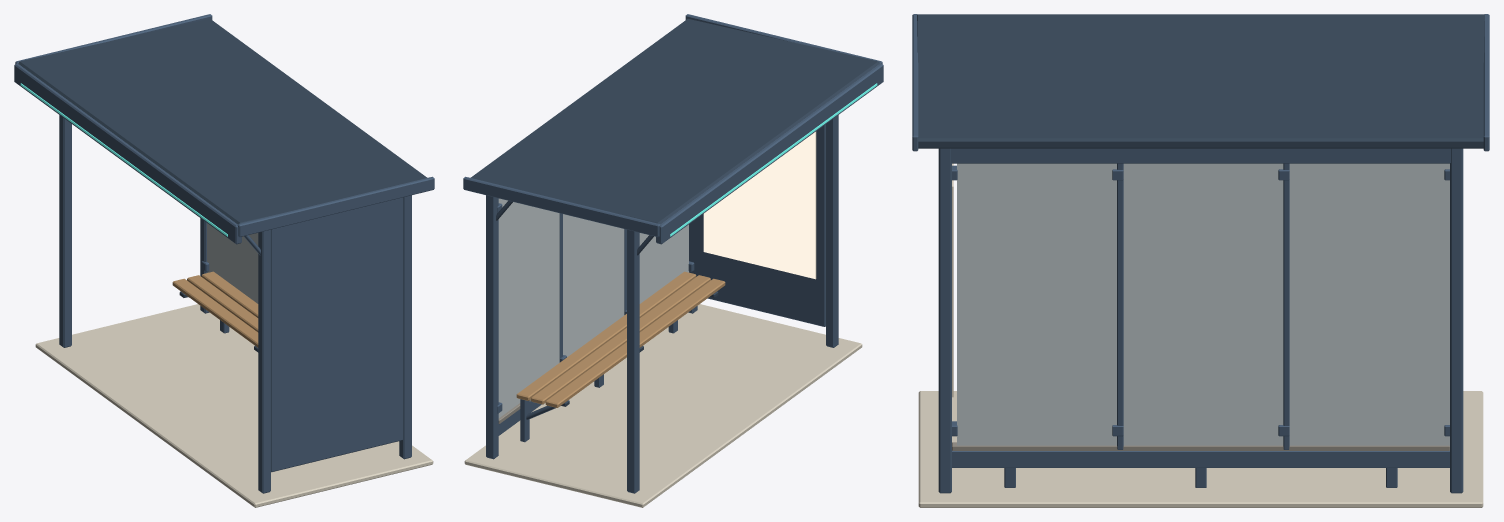
File: shelter.glb
3 renders of one model, left to right at view 1: azimuth 30°, elevation 25°; view 2: azimuth 150°, elevation 25°; view 3: azimuth 270°, elevation 25°, orthographic. The views are drawn at different scales.
Parts seen in each view (by area): view 1: shelter.native.L0.shelter.roof.folded-pan.9, shelter.native.L0.shelter.end.6, shelter.native.L0.shelter.slab.0, shelter.native.L0.shelter.post.3, shelter.native.L0.shelter.post.1, shelter.native.L0.shelter.rear.5, shelter.native.L0.shelter.post.4, shelter.native.L0.shelter.perch.slat-0.14, shelter.native.L0.shelter.perch.slat-1.15, shelter.native.L0.shelter.perch.slat-2.16; view 2: shelter.native.L0.shelter.roof.folded-pan.9, shelter.native.L0.shelter.slab.0, shelter.native.L0.shelter.rear.5, shelter.native.L0.shelter.poster.7, shelter.native.L0.shelter.end.6, shelter.native.L0.shelter.post.1, shelter.native.L0.shelter.post.2, shelter.native.L0.shelter.post.3, shelter.native.L0.shelter.perch.slat-0.14, shelter.native.L0.shelter.perch.slat-2.16, shelter.native.L0.shelter.perch.slat-1.15, shelter.native.L0.shelter.perch.bracket--1.15.11; view 3: shelter.native.L0.shelter.rear.5, shelter.native.L0.shelter.roof.folded-pan.9, shelter.native.L0.shelter.slab.0, shelter.native.L0.shelter.roof.primary-frame.8, shelter.native.L0.shelter.post.2, shelter.native.L0.shelter.post.4, shelter.native.L0.shelter.rear.glazing-beads.10.
Part boxes in pixels (x1=…): shelter.native.L0.shelter.roof.folded-pan.9: x1=14, y1=14, x2=434, y2=244; shelter.native.L0.shelter.end.6: x1=271, y1=197, x2=402, y2=472; shelter.native.L0.shelter.slab.0: x1=35, y1=304, x2=433, y2=507; shelter.native.L0.shelter.post.3: x1=258, y1=229, x2=270, y2=493; shelter.native.L0.shelter.post.1: x1=59, y1=115, x2=71, y2=347; shelter.native.L0.shelter.rear.5: x1=207, y1=223, x2=258, y2=303; shelter.native.L0.shelter.post.4: x1=399, y1=195, x2=411, y2=459; shelter.native.L0.shelter.perch.slat-0.14: x1=172, y1=278, x2=258, y2=347; shelter.native.L0.shelter.perch.slat-1.15: x1=187, y1=275, x2=258, y2=332; shelter.native.L0.shelter.perch.slat-2.16: x1=201, y1=271, x2=258, y2=317; shelter.native.L0.shelter.roof.folded-pan.9: x1=463, y1=14, x2=883, y2=244; shelter.native.L0.shelter.slab.0: x1=464, y1=304, x2=862, y2=507; shelter.native.L0.shelter.rear.5: x1=498, y1=198, x2=688, y2=435; shelter.native.L0.shelter.poster.7: x1=703, y1=131, x2=816, y2=279; shelter.native.L0.shelter.end.6: x1=692, y1=124, x2=825, y2=326; shelter.native.L0.shelter.post.1: x1=627, y1=229, x2=639, y2=493; shelter.native.L0.shelter.post.2: x1=486, y1=195, x2=498, y2=459; shelter.native.L0.shelter.post.3: x1=826, y1=115, x2=838, y2=347; shelter.native.L0.shelter.perch.slat-0.14: x1=545, y1=278, x2=725, y2=407; shelter.native.L0.shelter.perch.slat-2.16: x1=516, y1=271, x2=696, y2=400; shelter.native.L0.shelter.perch.slat-1.15: x1=531, y1=275, x2=710, y2=404; shelter.native.L0.shelter.perch.bracket--1.15.11: x1=520, y1=399, x2=569, y2=442; shelter.native.L0.shelter.rear.5: x1=952, y1=163, x2=1449, y2=467; shelter.native.L0.shelter.roof.folded-pan.9: x1=912, y1=14, x2=1489, y2=151; shelter.native.L0.shelter.slab.0: x1=918, y1=391, x2=1483, y2=507; shelter.native.L0.shelter.roof.primary-frame.8: x1=951, y1=148, x2=1450, y2=163; shelter.native.L0.shelter.post.2: x1=1450, y1=148, x2=1463, y2=493; shelter.native.L0.shelter.post.4: x1=938, y1=148, x2=951, y2=493; shelter.native.L0.shelter.rear.glazing-beads.10: x1=952, y1=165, x2=1449, y2=450.
Size of the model in its own units: 1.79 by 2.48 by 3.48.
